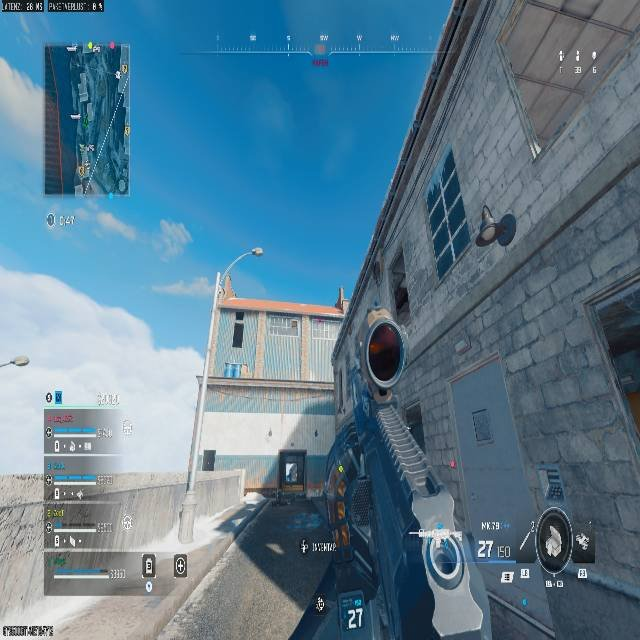player: (475, 206, 515, 247)
